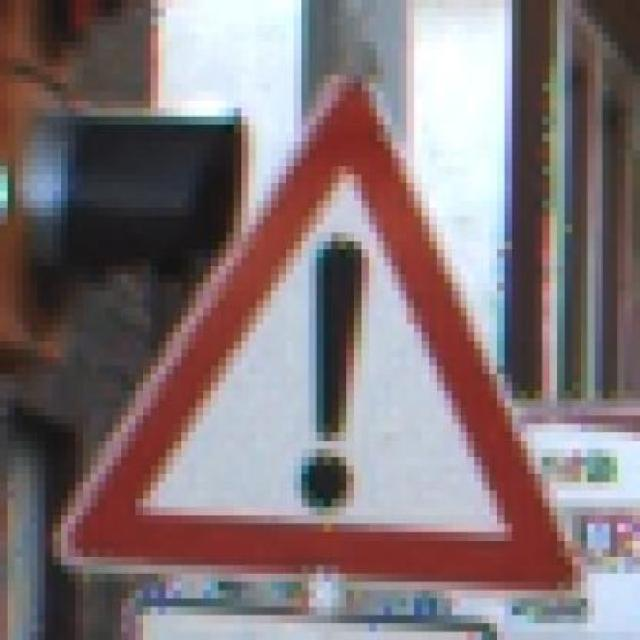Attention Please-: (48, 75, 583, 600)
